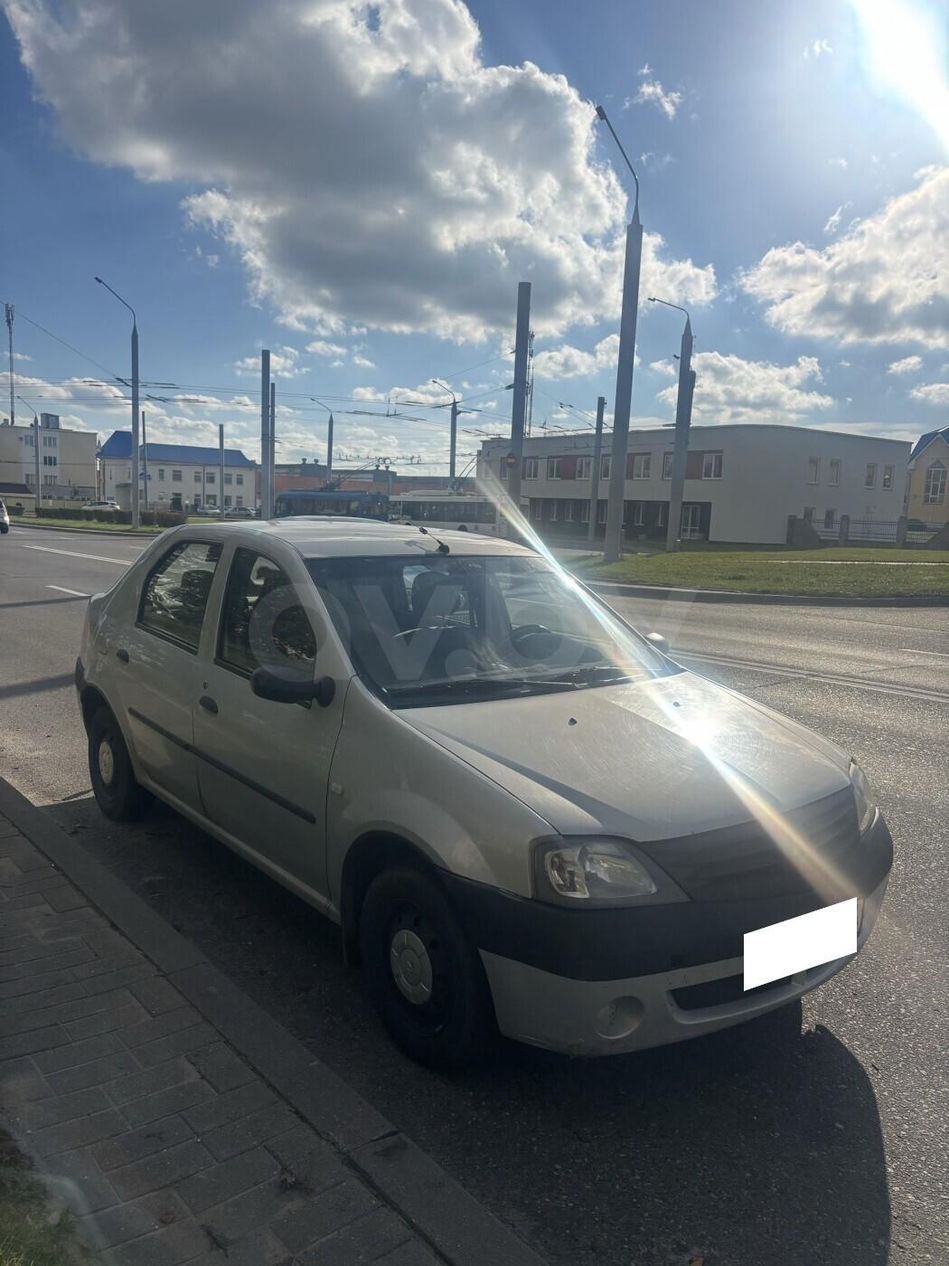Logan_2004-2009: (74, 514, 902, 1058)
